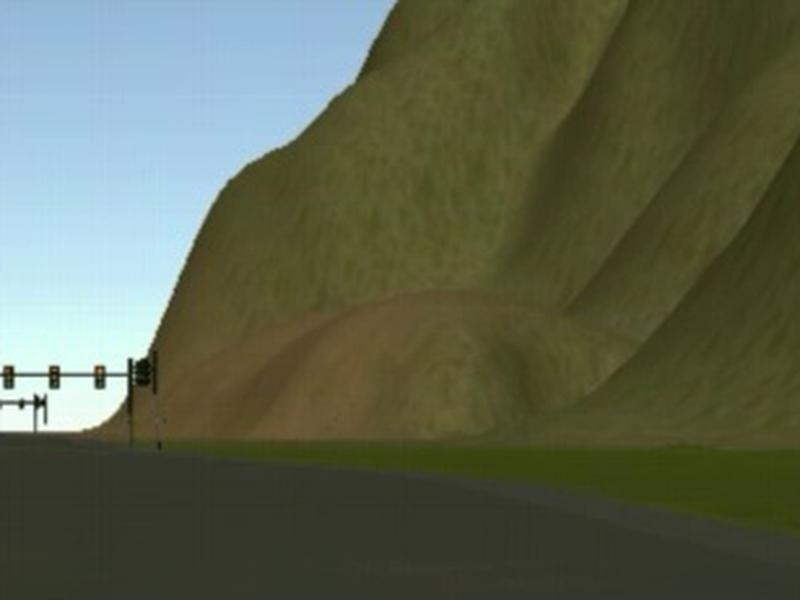Red: (93, 364, 106, 390), (49, 363, 61, 390), (4, 363, 14, 392)
